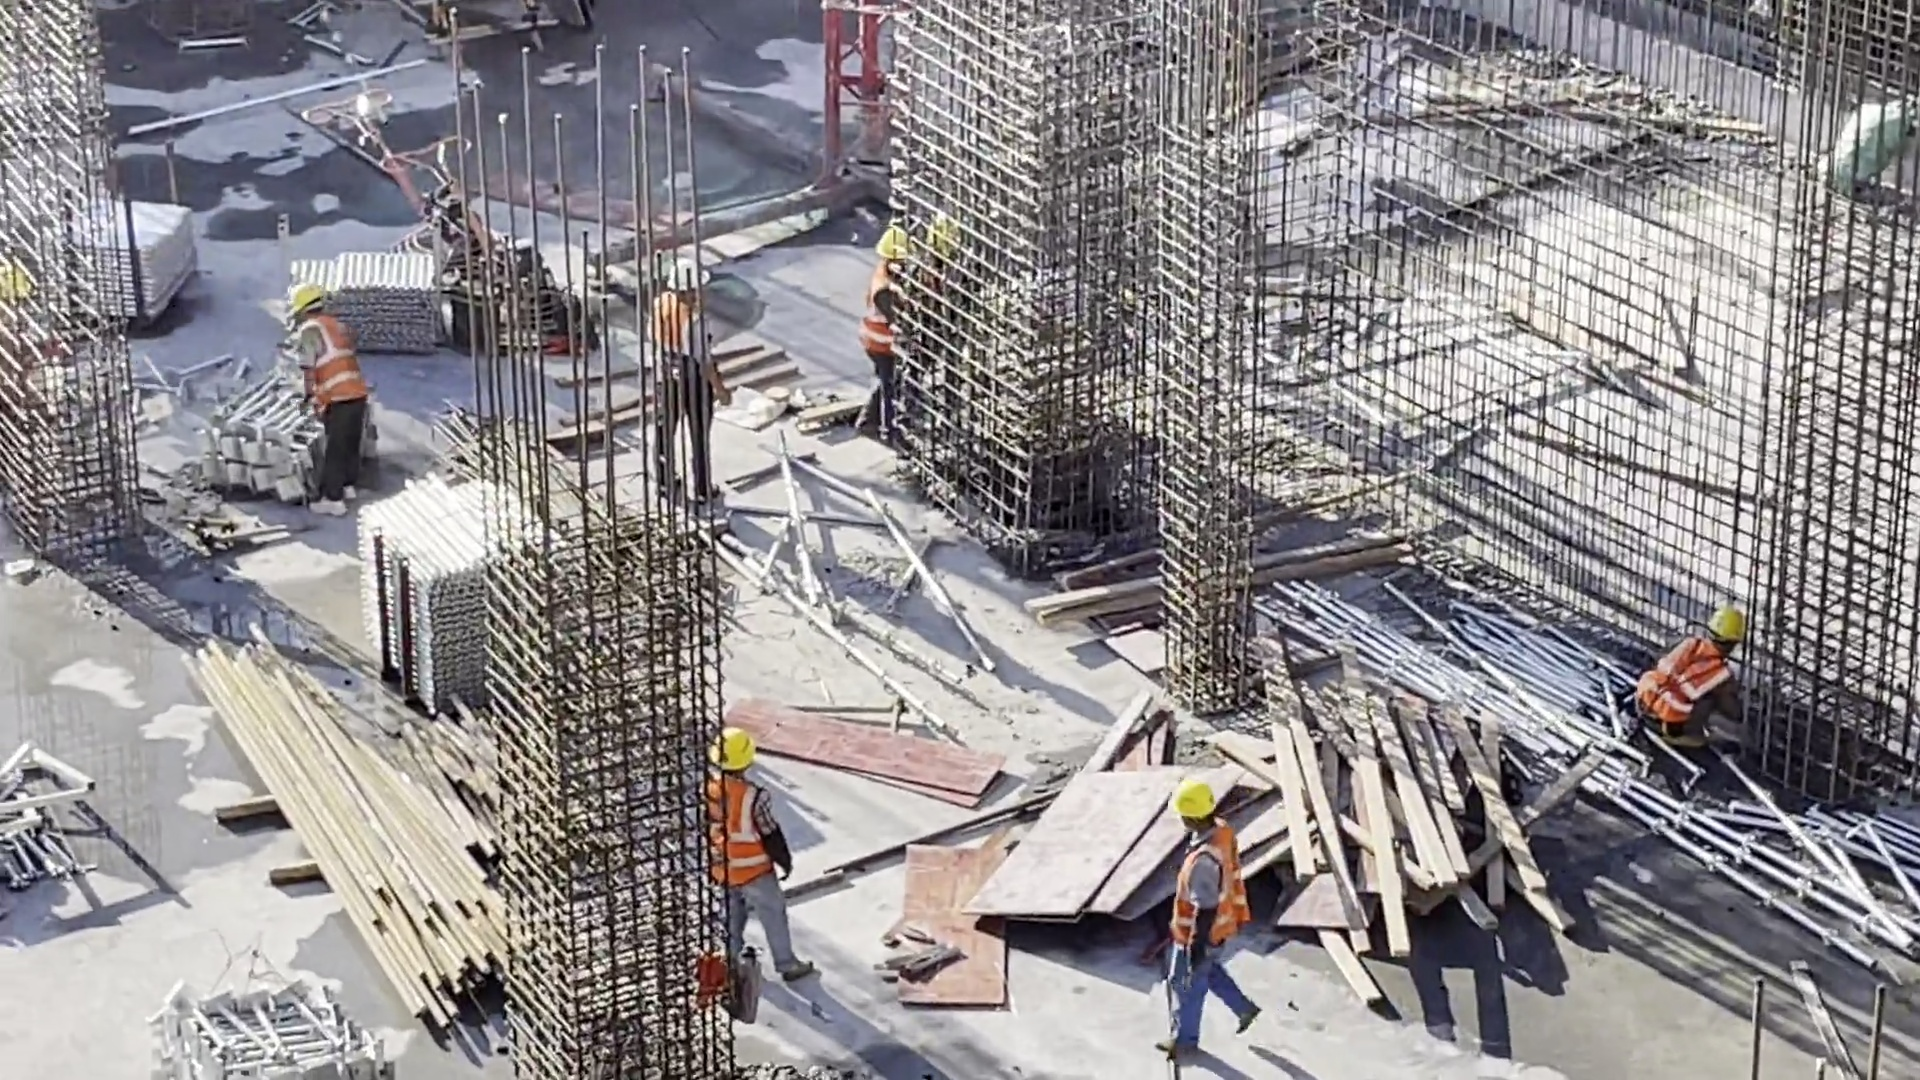board: (844, 682, 1243, 1016)
helmet: (712, 730, 779, 782), (1176, 778, 1226, 823), (286, 274, 331, 319), (668, 259, 713, 302), (1716, 593, 1755, 641), (881, 222, 915, 260)
person: (677, 708, 822, 990), (1141, 775, 1269, 1056), (258, 289, 375, 508), (637, 246, 721, 497), (1638, 591, 1755, 743), (863, 212, 925, 443)
rebar: (191, 601, 540, 1043)
scaffold: (337, 467, 563, 694), (279, 222, 465, 379), (29, 179, 209, 311)
vest: (1167, 833, 1250, 959), (1637, 631, 1734, 734), (701, 775, 767, 885), (292, 331, 370, 409), (656, 292, 718, 383), (865, 275, 902, 352)
